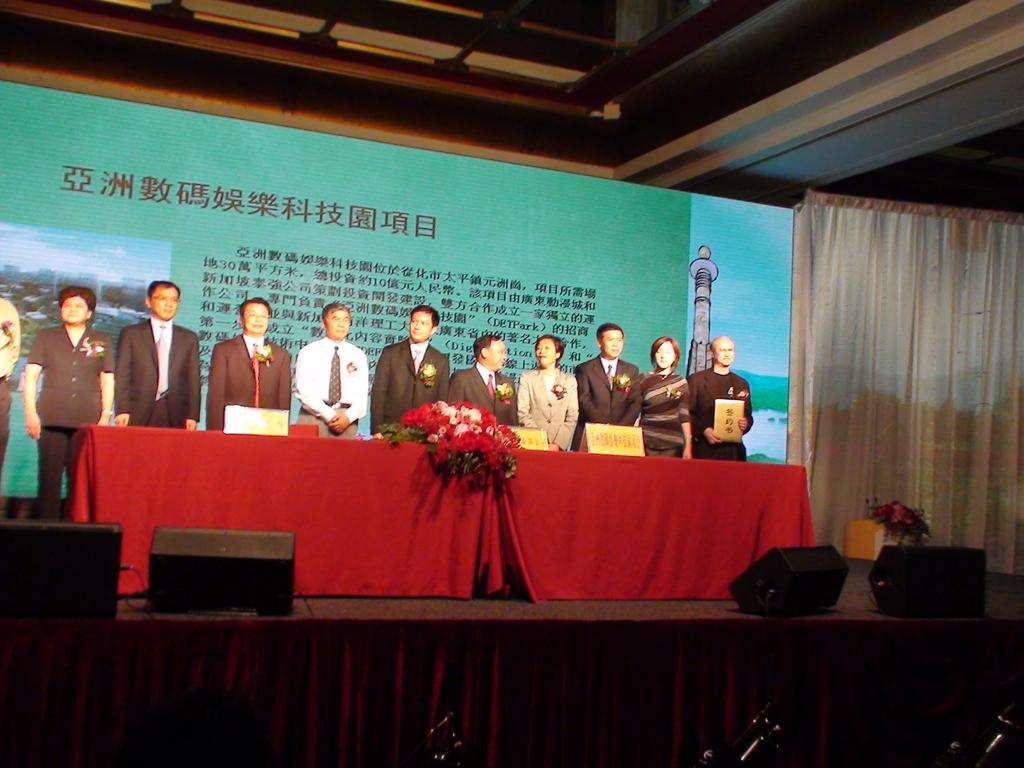face: (151, 286, 177, 319), (61, 296, 87, 322), (246, 304, 268, 332), (602, 330, 623, 357), (410, 312, 431, 339), (655, 341, 675, 367), (328, 311, 348, 337), (487, 340, 505, 368), (536, 340, 556, 364), (714, 341, 733, 364)
